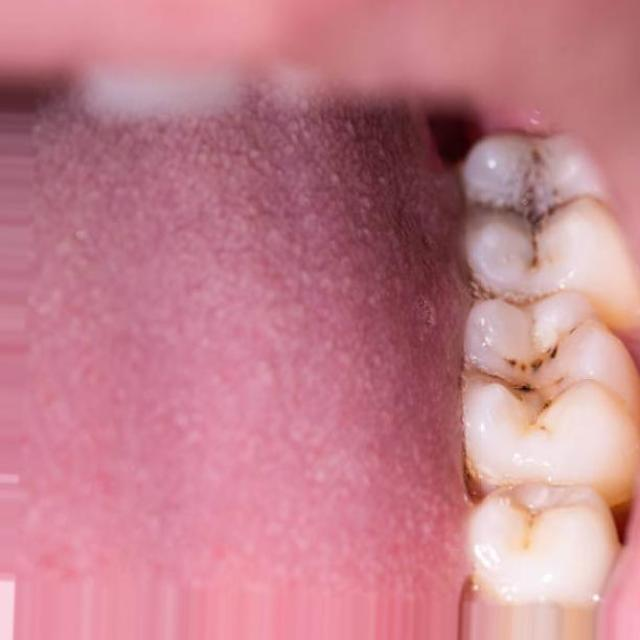caries: (474, 312, 597, 440), (468, 150, 583, 274)
